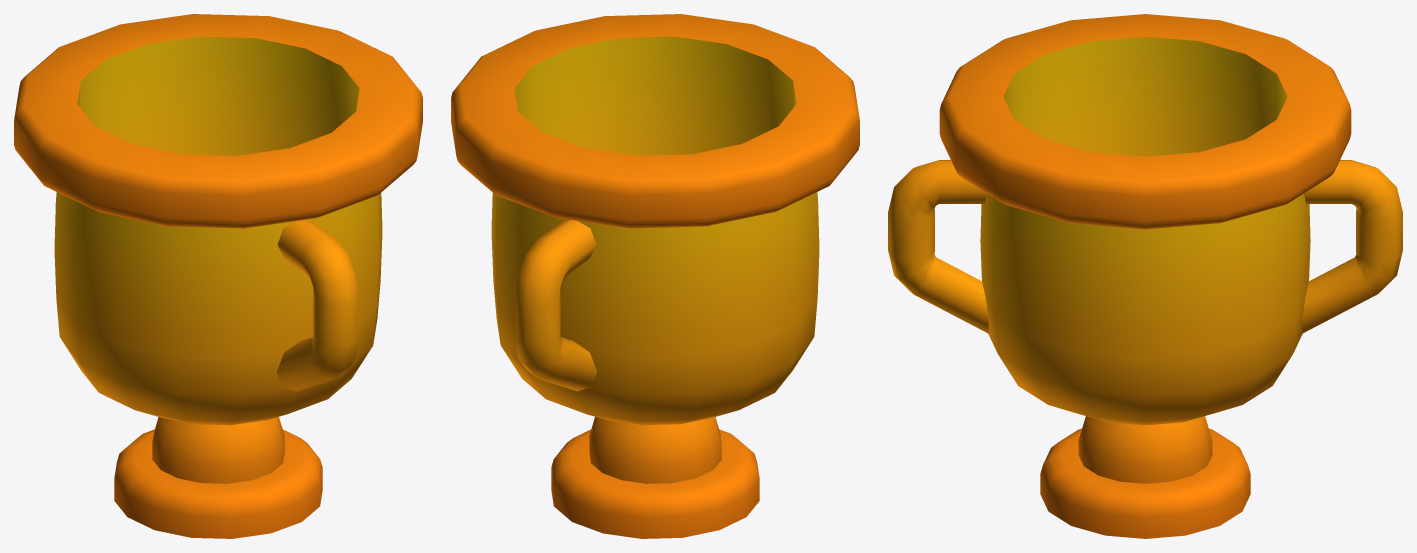
Rendered from Cup_V1_01.fbx.
3 renders of one model, left to right at view 1: azimuth 30°, elevation 25°; view 2: azimuth 150°, elevation 25°; view 3: azimuth 270°, elevation 25°, orthographic.
Visible parts, largest first — view 1: Cup_V1_01; view 2: Cup_V1_01; view 3: Cup_V1_01.
Part boxes in pixels (<box>): Cup_V1_01: <box>14,14,422,538</box>; Cup_V1_01: <box>451,14,859,538</box>; Cup_V1_01: <box>888,14,1402,538</box>.
Size of the model in its own units: 37.46 by 39.97 by 46.85.
